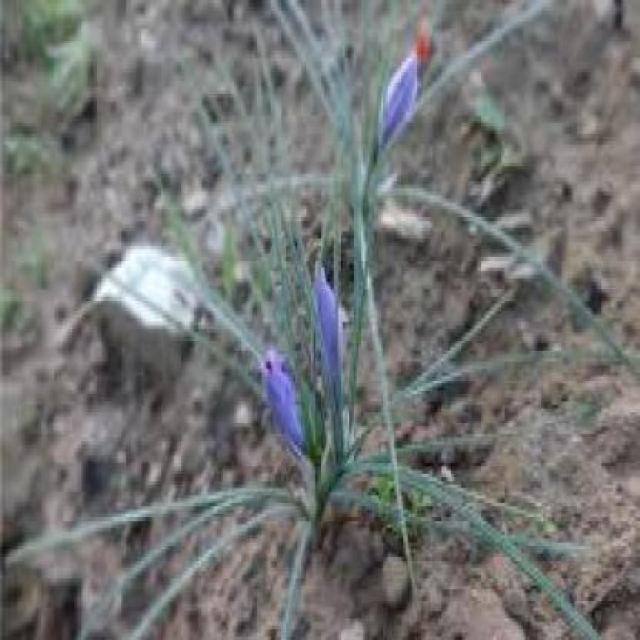saffron closed: (260, 349, 304, 453), (379, 52, 419, 147), (314, 268, 341, 393)
